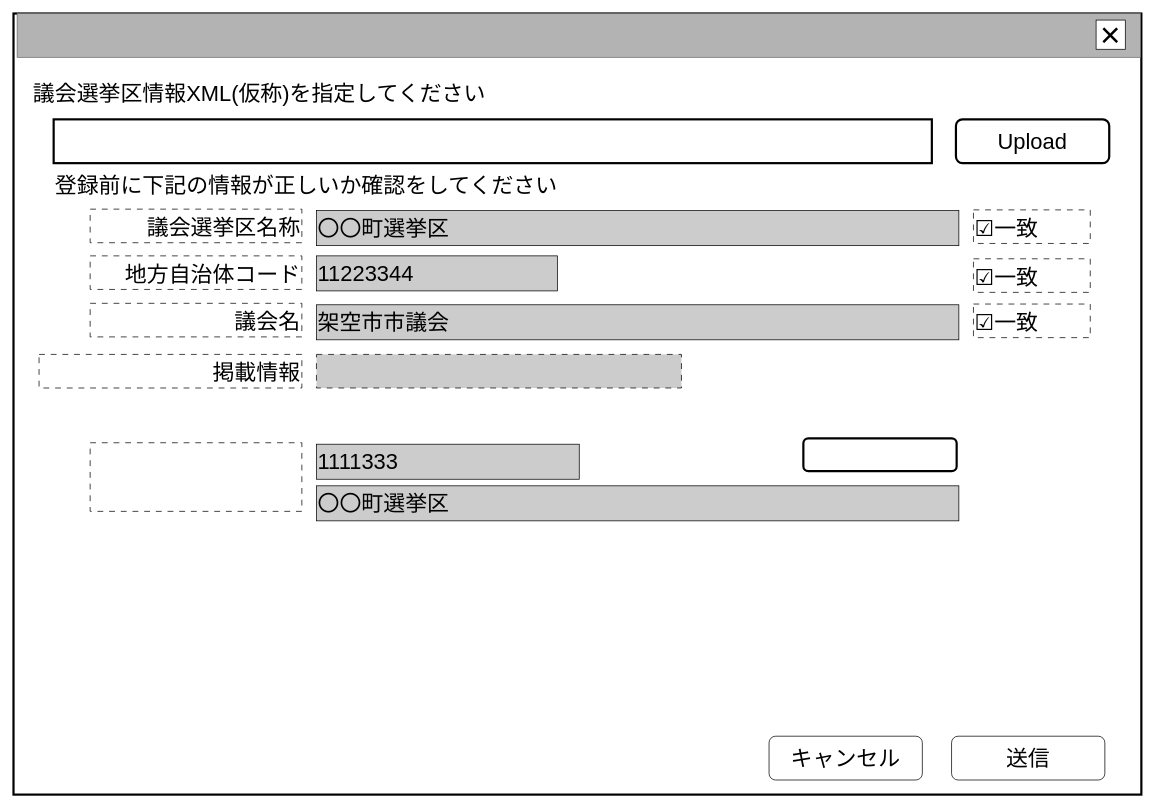
The diagram is 1155 pixels wide and 808 high, and some of its shapes have lost their labels. The box of each missing label's shape, as (x1, y1, x2, y2) in pixels:
☑当選者情報: (316, 354, 681, 388)
検索: (802, 437, 957, 472)
結びつける 議会選挙区: (89, 442, 302, 511)
